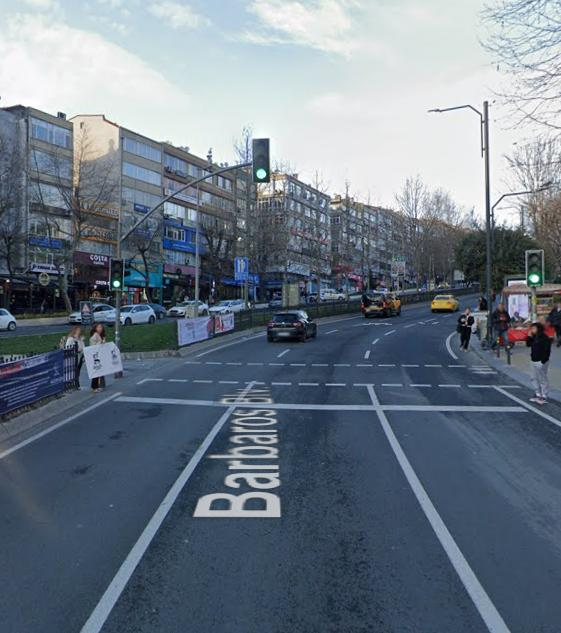greenlight: (526, 251, 544, 289), (255, 138, 270, 183), (110, 261, 124, 291)
